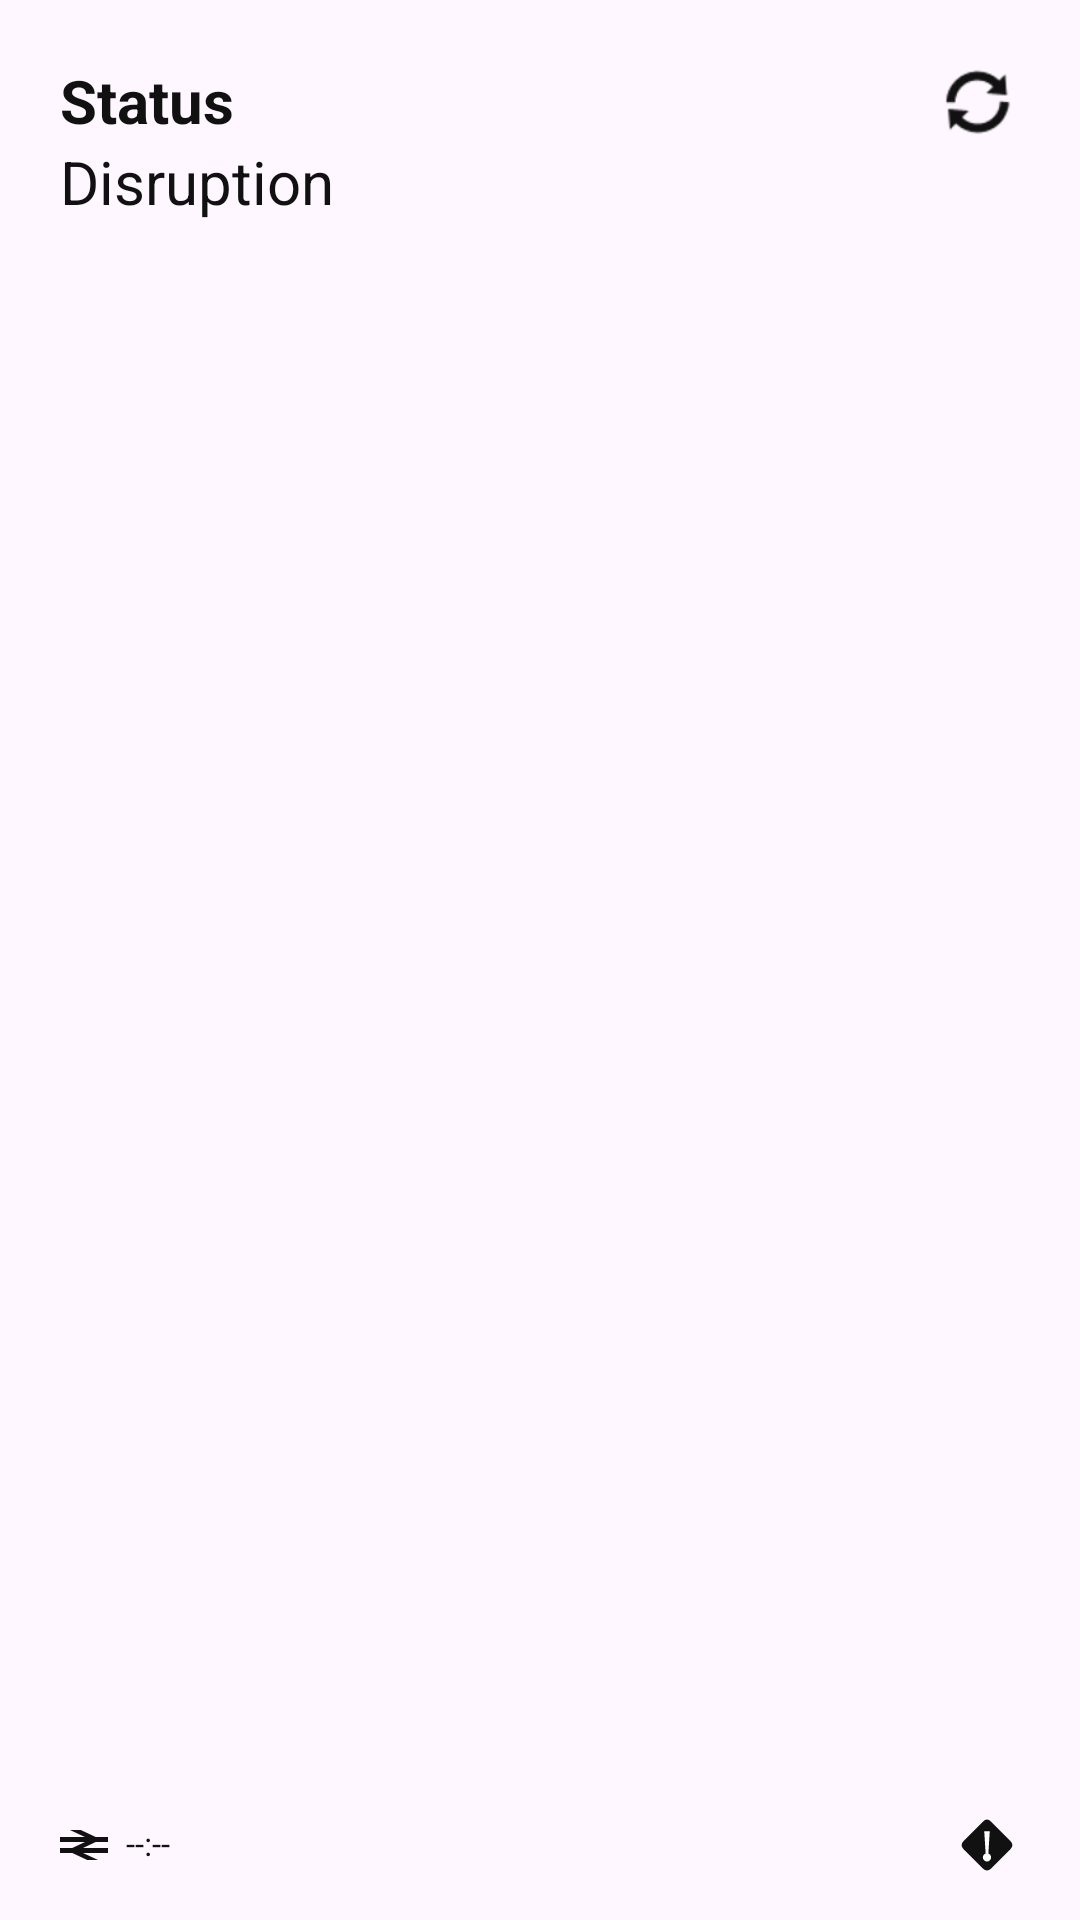

Where to tap for icons on this 1080*1920 app screen, as [x,y]:
alert diamond: [987,1845]
Refresh: [978,102]
